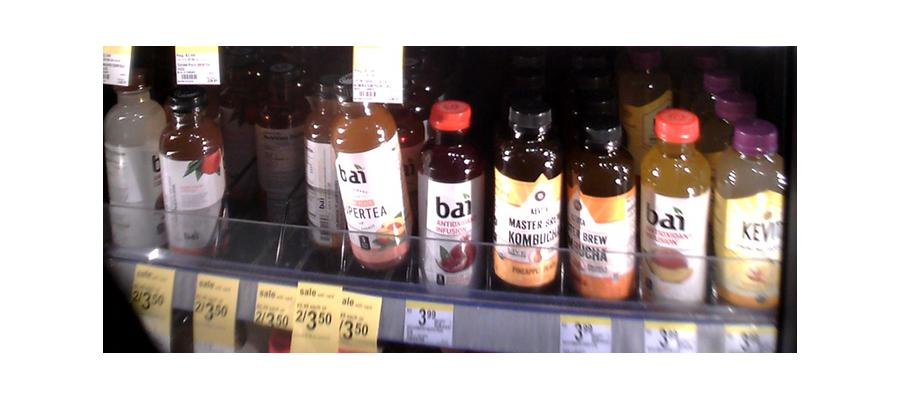bottle: (331, 82, 410, 273), (489, 99, 565, 294), (566, 112, 640, 308), (714, 117, 786, 314), (642, 112, 712, 308), (414, 101, 484, 295), (159, 90, 225, 267), (106, 72, 160, 261), (255, 61, 300, 216), (306, 75, 340, 243)
